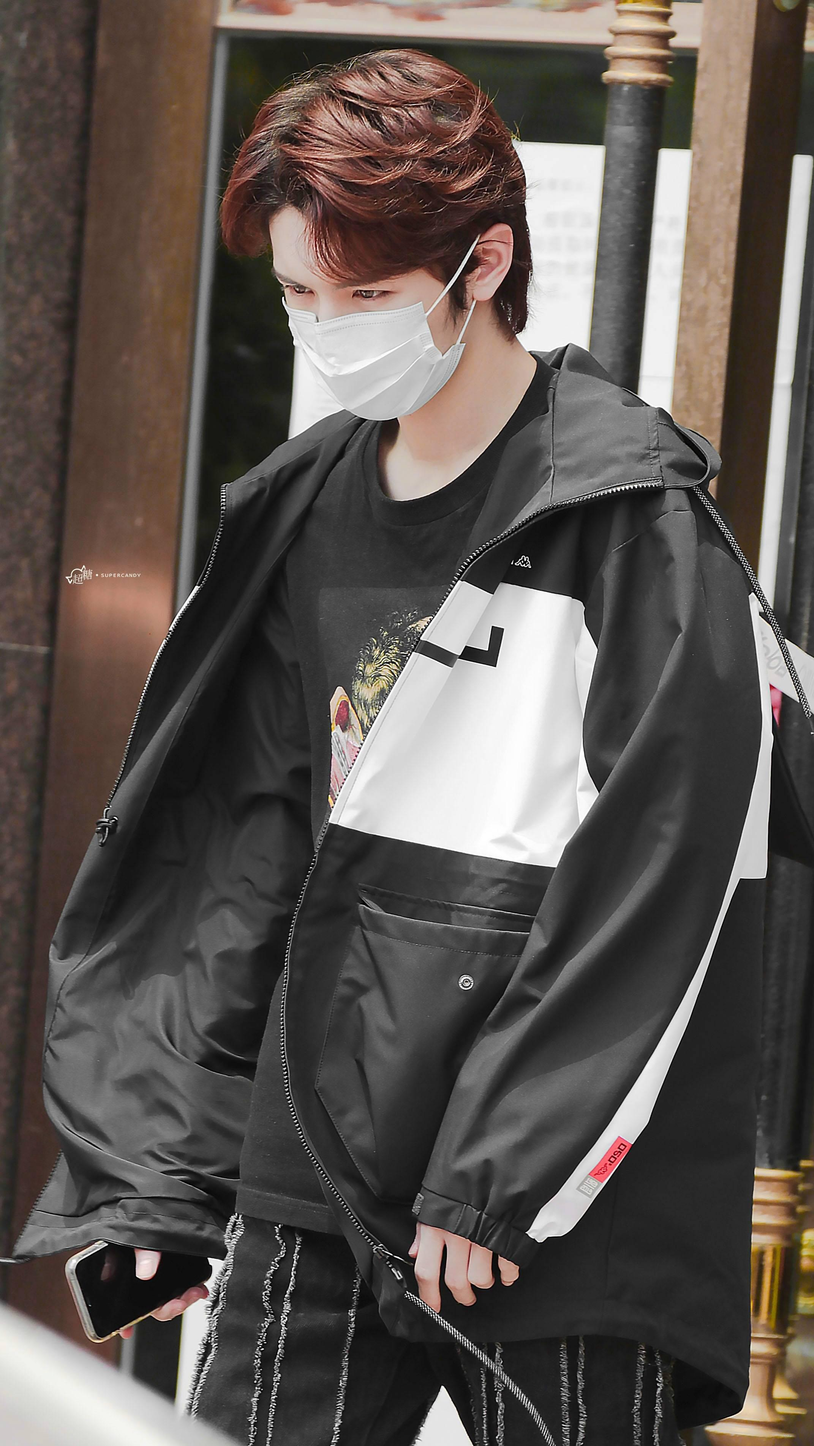OK: (269, 237, 454, 421)
